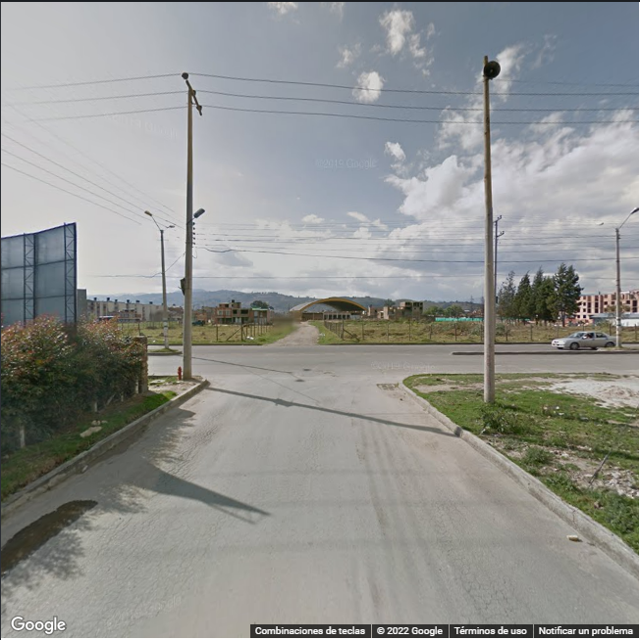D20: (66, 515, 212, 636), (428, 533, 541, 616)
